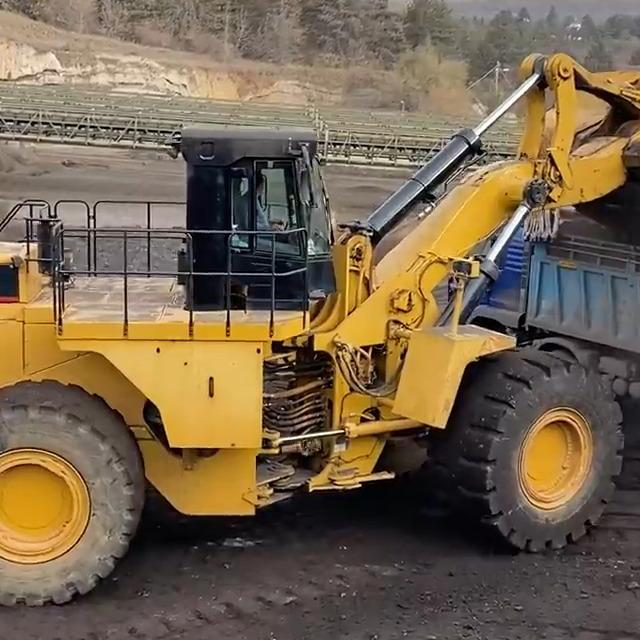NO-Hardhat: (251, 173, 270, 189)
NO-Safety Vest: (243, 197, 285, 234)
Person: (241, 171, 290, 237)
dump truck: (461, 187, 640, 481)
wheel loader: (0, 45, 640, 614)
